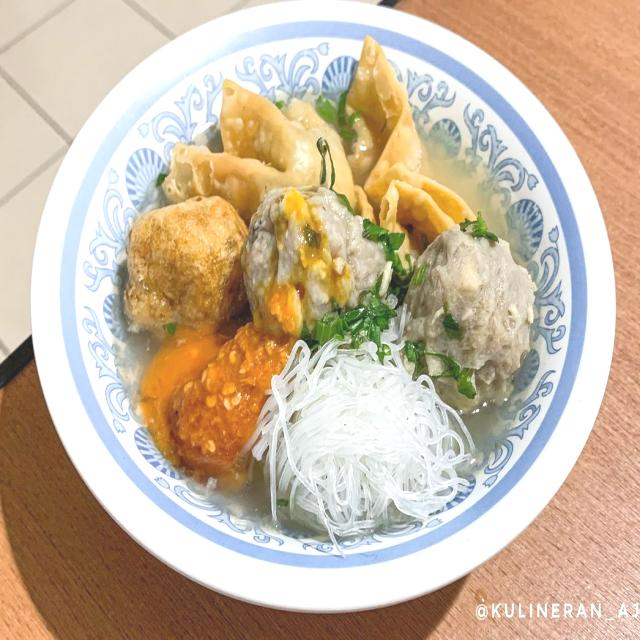bakso: (93, 40, 579, 557)
